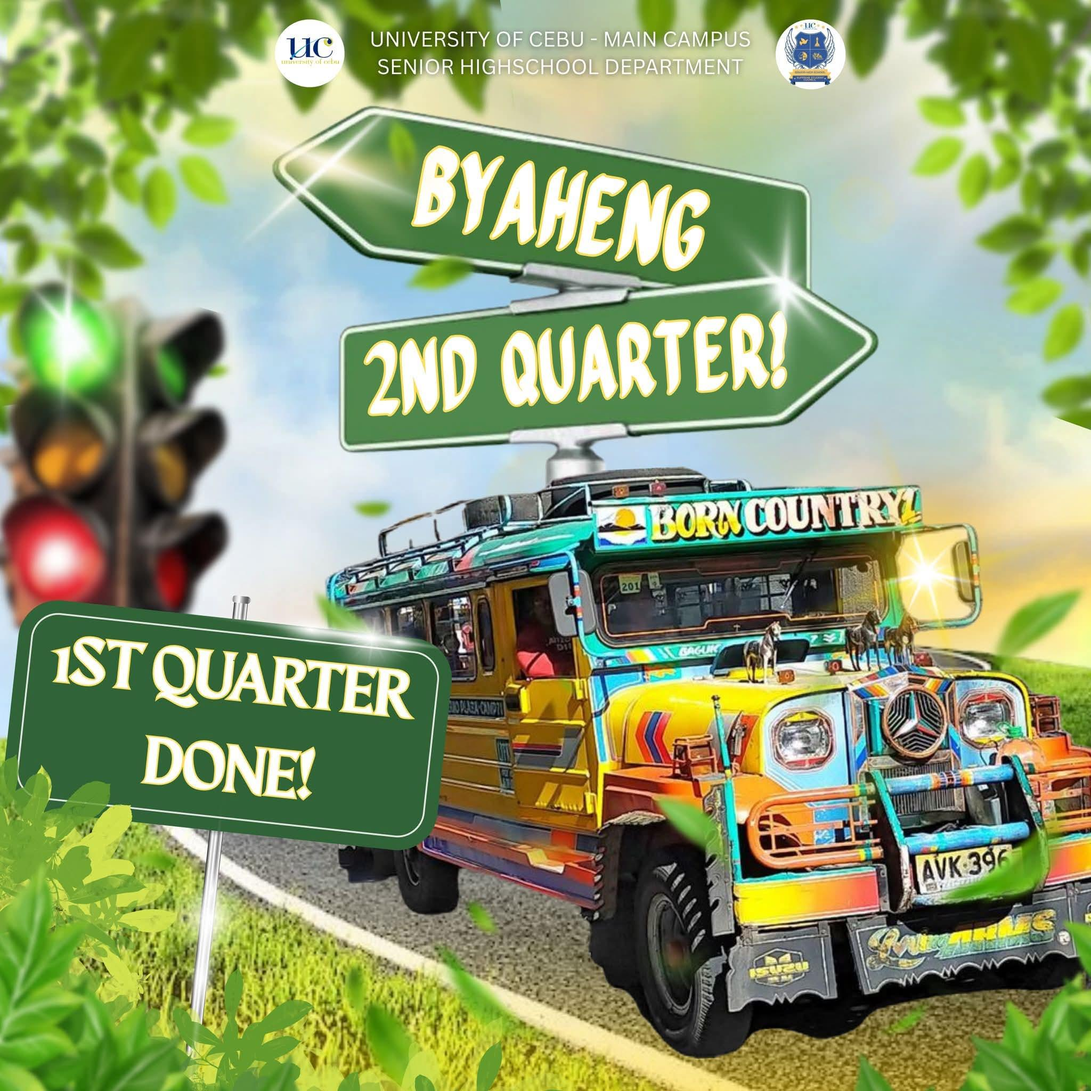embellishment: (325, 466, 1090, 1060)
logo: (771, 16, 852, 96), (269, 16, 348, 92)
text: (359, 302, 806, 421), (404, 135, 727, 278), (39, 622, 439, 735), (365, 24, 759, 83), (124, 717, 334, 815)
underlay: (272, 107, 879, 485), (8, 597, 451, 1025)
